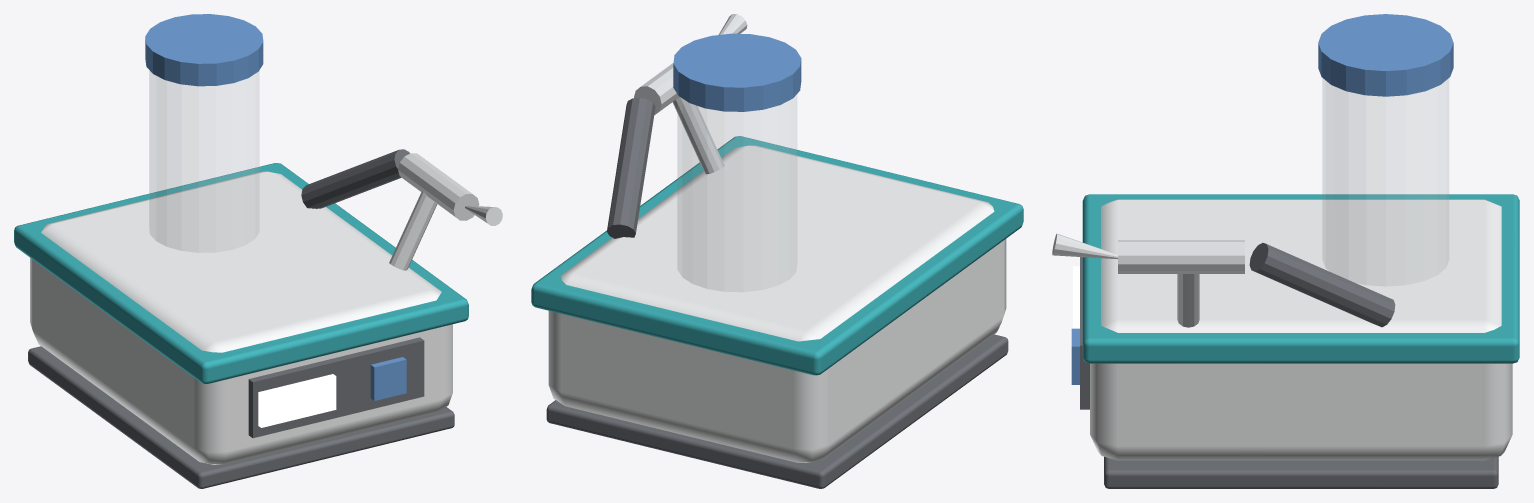
Rendered from scaler.glb.
3 renders of one model, left to right at view 1: azimuth 30°, elevation 25°; view 2: azimuth 150°, elevation 25°; view 3: azimuth 270°, elevation 25°, orthographic. The views are drawn at different scales.
Visible parts, largest first — view 1: ultrasonic-scaler; view 2: ultrasonic-scaler; view 3: ultrasonic-scaler.
Part boxes in pixels (x1,y1,x2,y2): ultrasonic-scaler: (14, 14, 502, 488); ultrasonic-scaler: (531, 14, 1023, 488); ultrasonic-scaler: (1052, 14, 1519, 488).
Bounding box in the file's own units: 0.272 × 0.295 × 0.3317.
